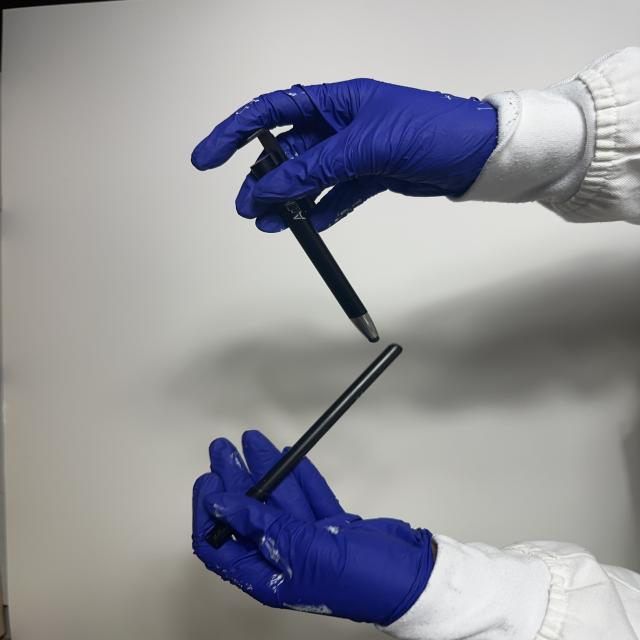gloves_contaminated: (192, 431, 436, 633), (192, 78, 498, 232)
